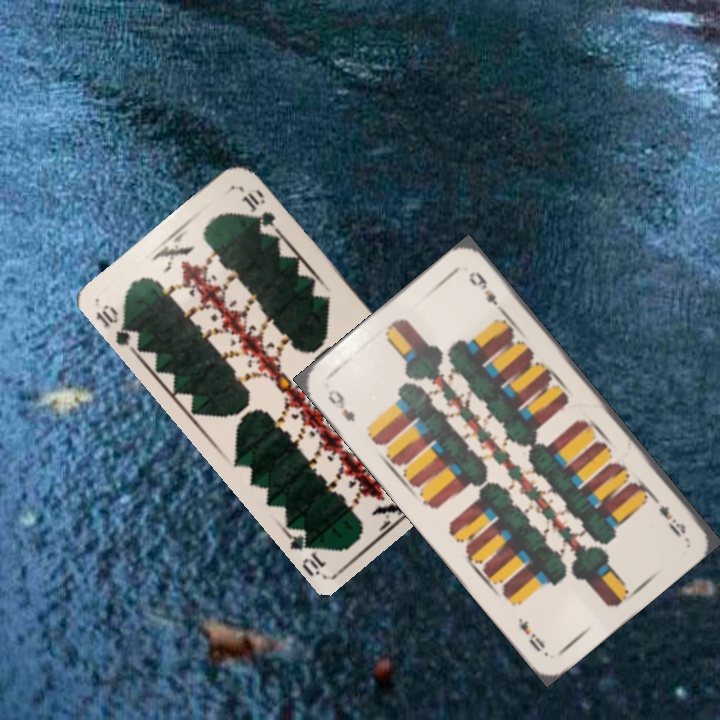E9: (646, 490, 689, 540), (323, 385, 358, 425)
G10: (91, 300, 142, 353)
